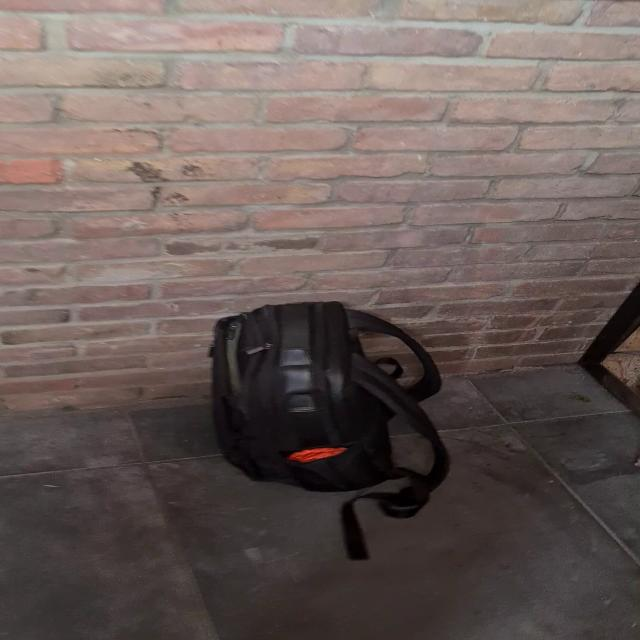backpack: (195, 292, 457, 512)
